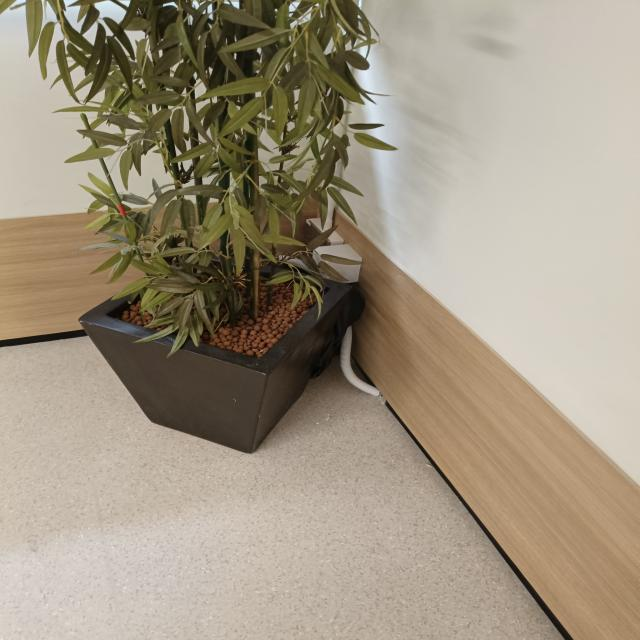Pot: (76, 248, 356, 455)
